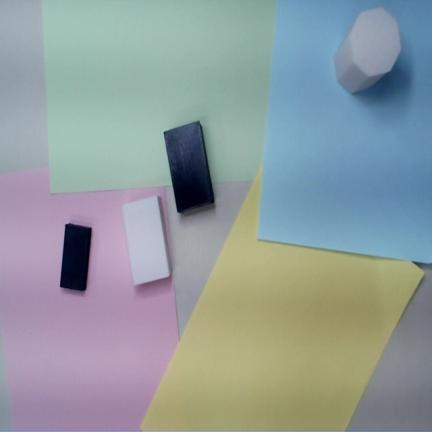Paralelepipedo: (163, 120, 214, 213), (121, 194, 172, 285), (60, 223, 92, 291)
Prisma_hexagonal: (333, 4, 403, 93)
